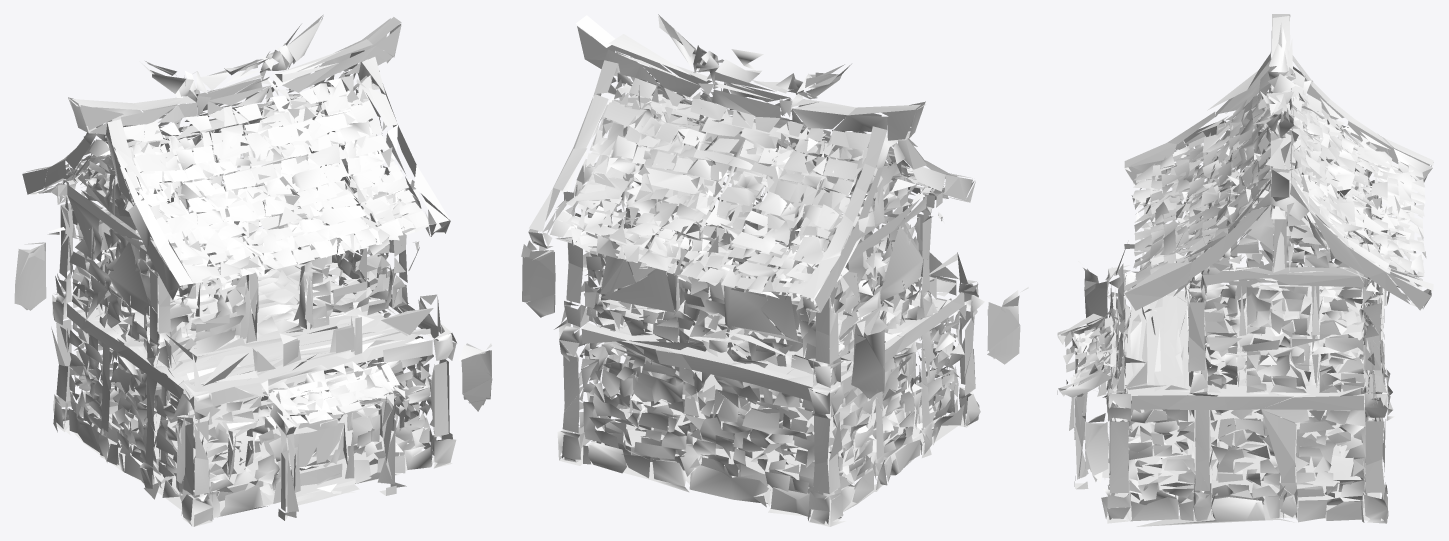
The model's file is house_stone_a_lod2.glb.
3 views of the same model, side by side, from view 1: azimuth 30°, elevation 25°; view 2: azimuth 150°, elevation 25°; view 3: azimuth 270°, elevation 25° (orthographic). The views are drawn at different scales.
Parts seen in each view (by area): view 1: house_stone_a; view 2: house_stone_a; view 3: house_stone_a.
Part boxes in pixels (x1=…): house_stone_a: x1=14, y1=14, x2=492, y2=526; house_stone_a: x1=521, y1=14, x2=1028, y2=526; house_stone_a: x1=1057, y1=14, x2=1433, y2=526.
Bounding box in the file's own units: 7.75 × 8.64 × 7.39.
Materials: 1 (1 with a texture image).
